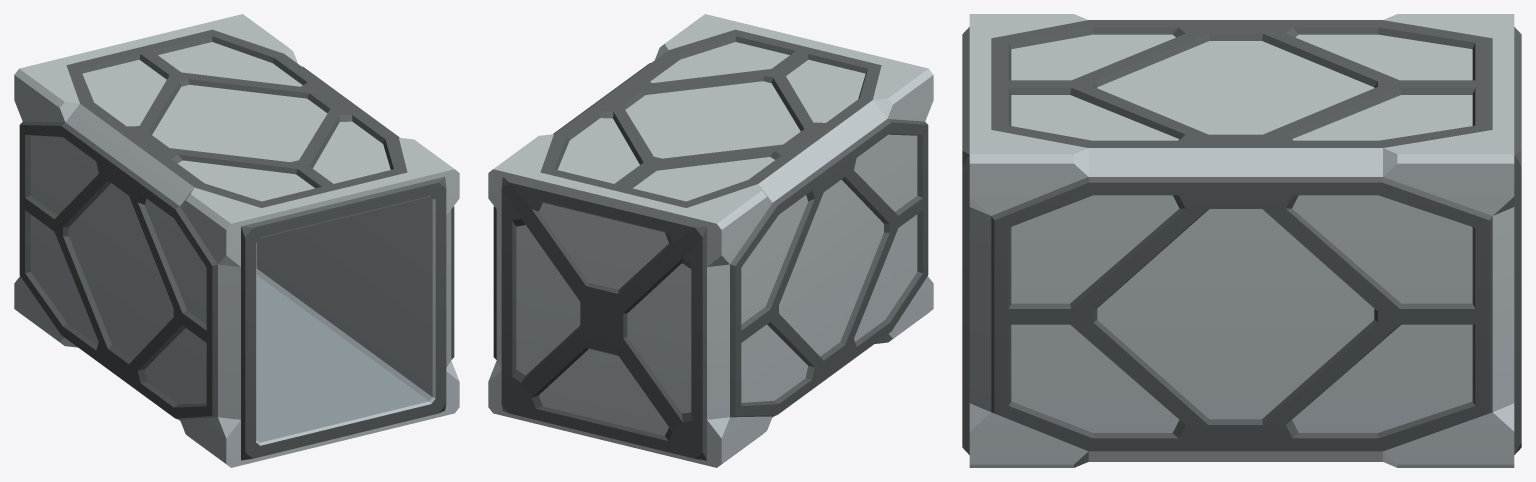
File: Container_type_B_002.fbx
The picture shows the model from 3 angles, left to right: view 1: azimuth 30°, elevation 25°; view 2: azimuth 150°, elevation 25°; view 3: azimuth 270°, elevation 25°; orthographic projection. The views are drawn at different scales.
Visible parts, largest first — view 1: Container_type_B_002; view 2: Container_type_B_002; view 3: Container_type_B_002.
Part boxes in pixels (x1,y1,x2,y2): Container_type_B_002: (14,14,459,467); Container_type_B_002: (488,14,933,467); Container_type_B_002: (962,14,1521,467).
Size of the model in its own units: 249 by 388 by 240.
